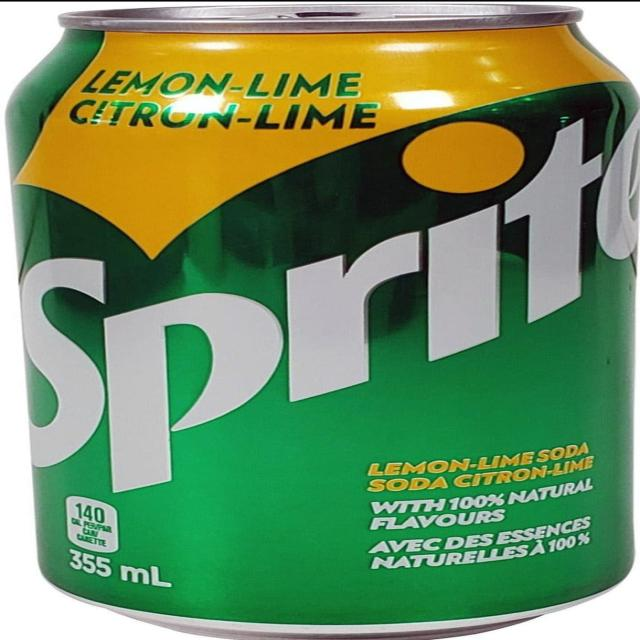sprite: (6, 8, 627, 640)
